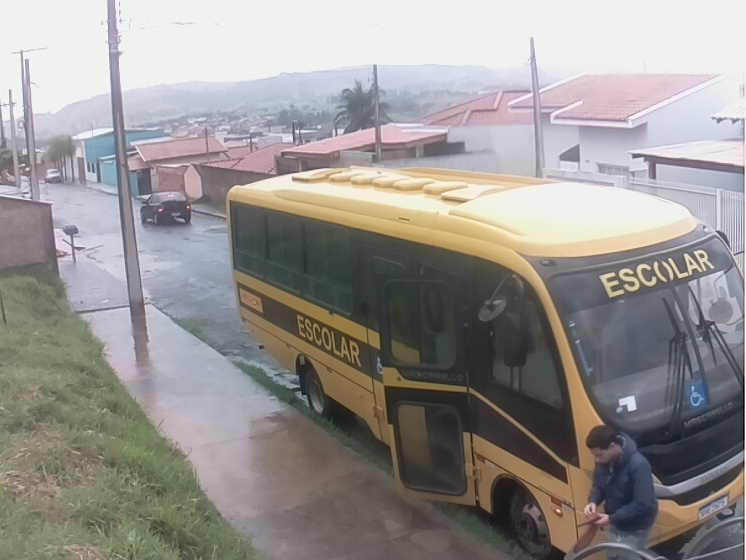person: (581, 423, 660, 556)
